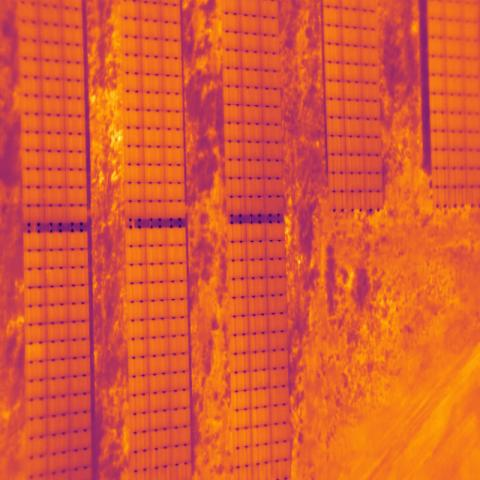fault: (24, 343, 47, 362)
